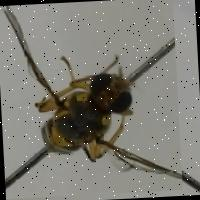Oriental-fruit-fly: (0, 0, 182, 198)
